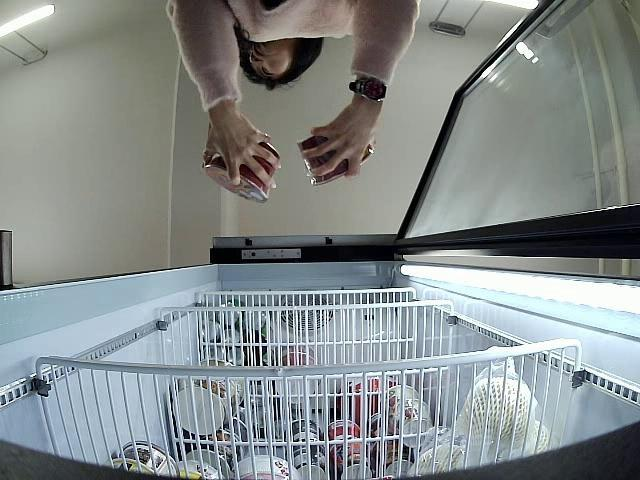05_nuguri_L: (203, 136, 281, 203), (296, 130, 372, 186)
